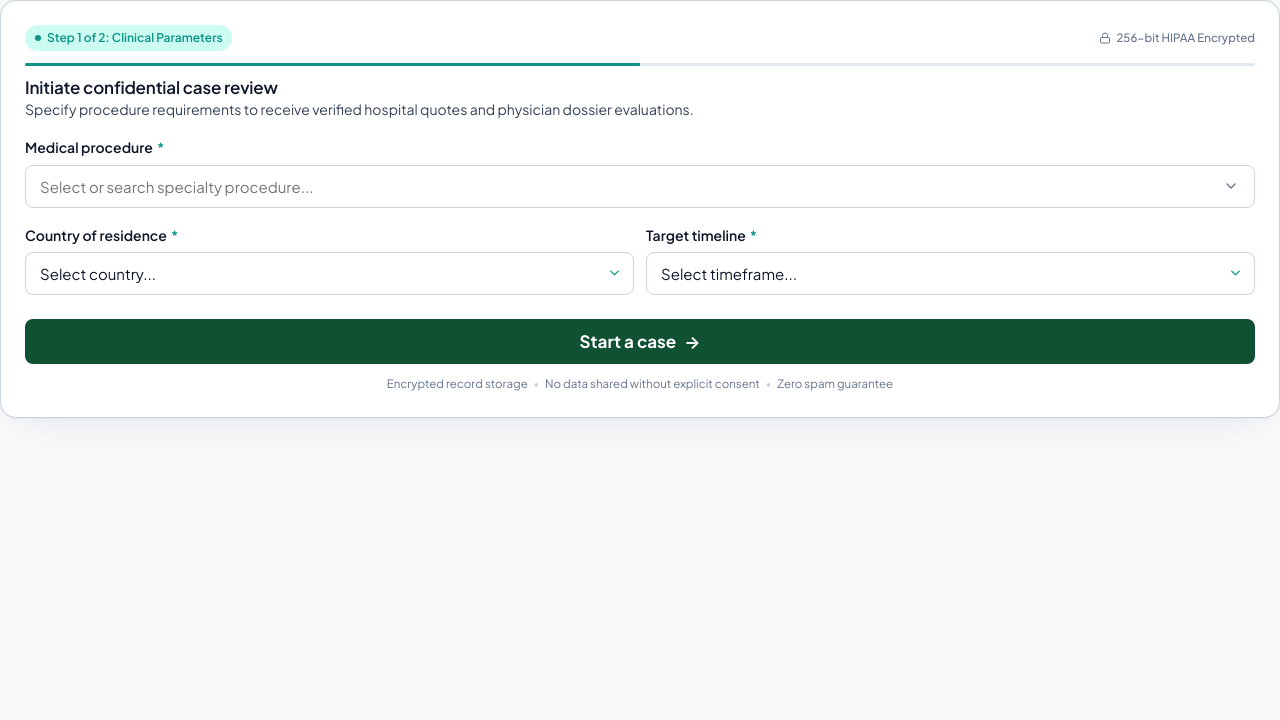
Scenario: HeroIntakeTeaser Component › renders 3 fields (procedure, country, timeline) and validates input
expect the dropdown labelled "Medical procedure *" is shown: met, box [25, 165, 1255, 208]
expect the dropdown labelled "Country of residence *" is shown: met, box [25, 252, 634, 295]
Click the button "Start a case →" at (640, 341), box [25, 319, 1255, 364]
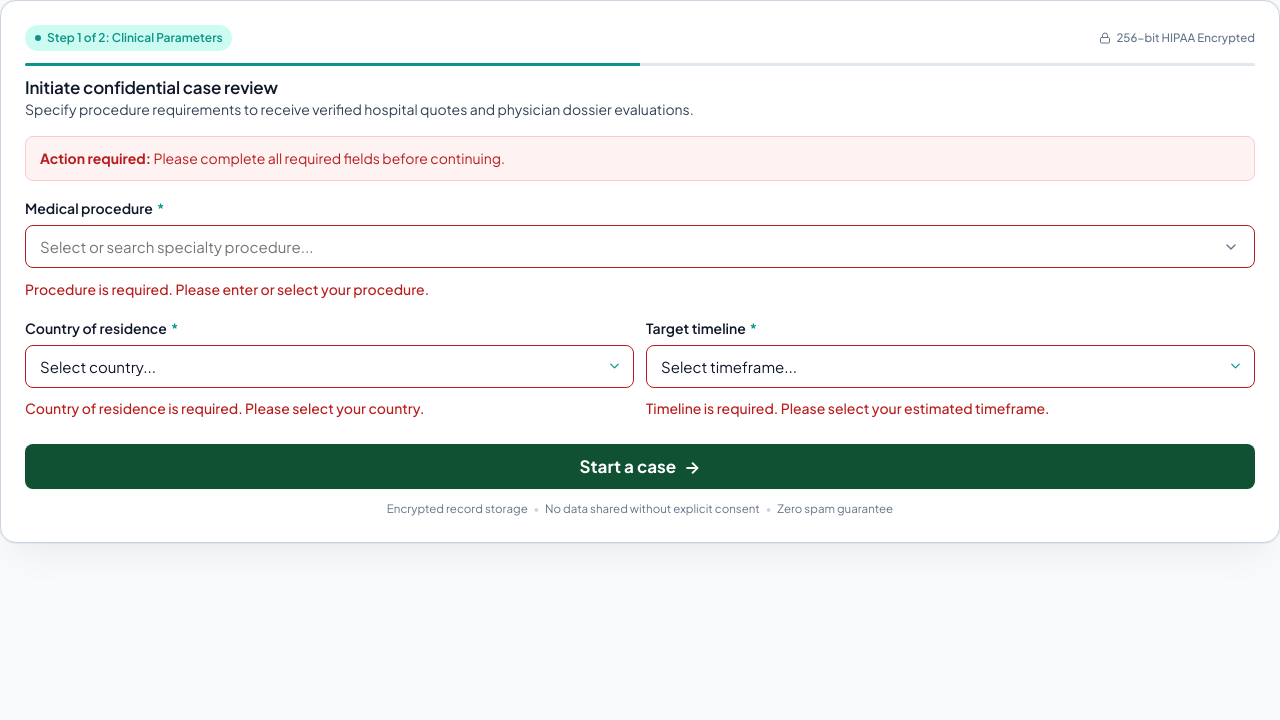
expect the text "Action required: Please complete all required fields before continuing." is shown: met, box [25, 136, 1255, 181]
